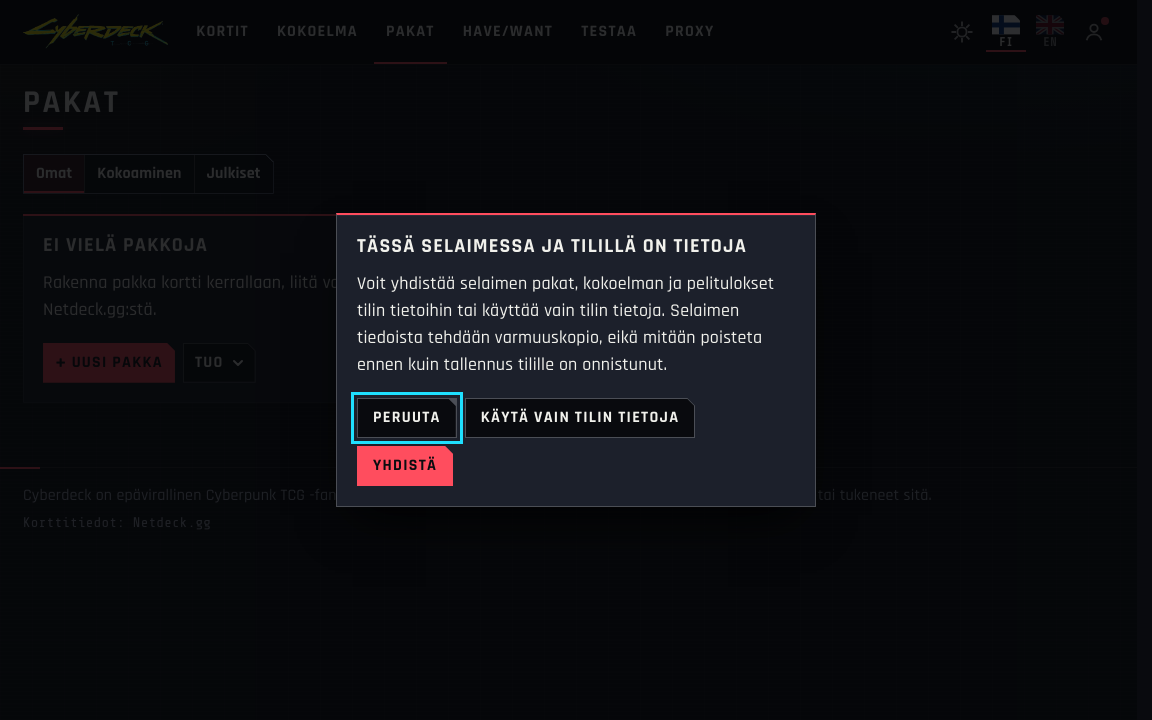
it: account data in the app › asks what to do when the browser and the account both have data, and merges on request
Click the button "Yhdistä": (405, 466) 357,446 -> 453,486
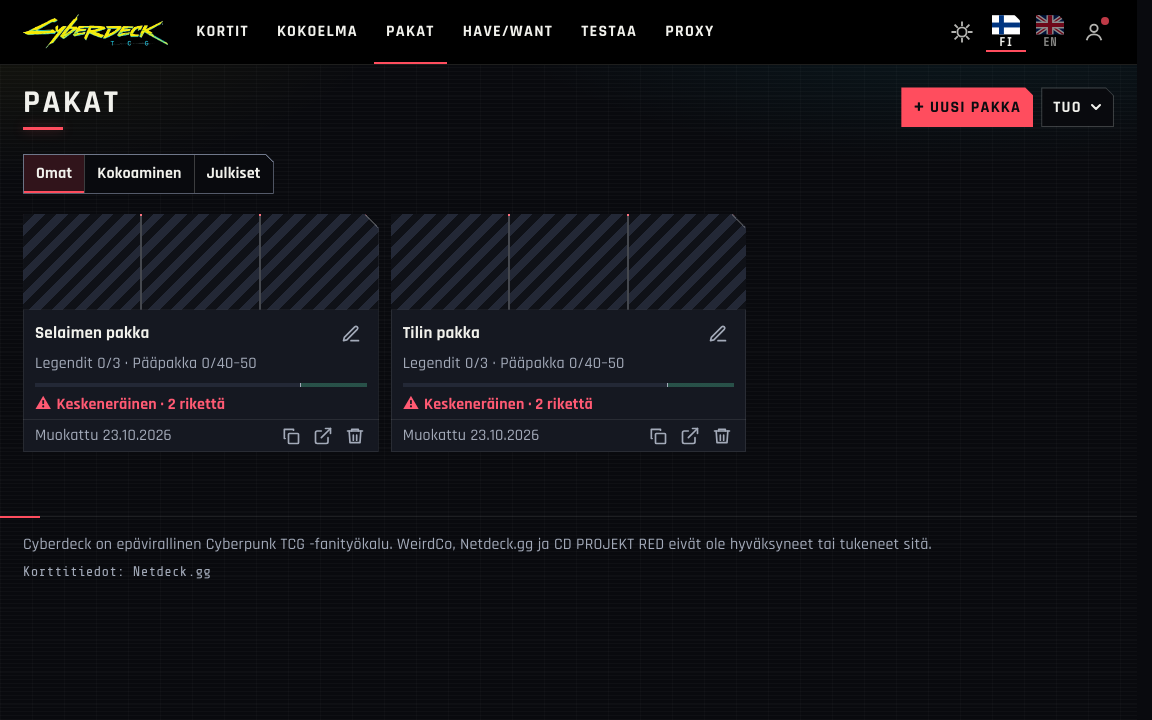
Now the link "Selaimen pakka" is shown, box 35,322 -> 149,344
Now the link "Tilin pakka" is shown, box 403,322 -> 480,344
